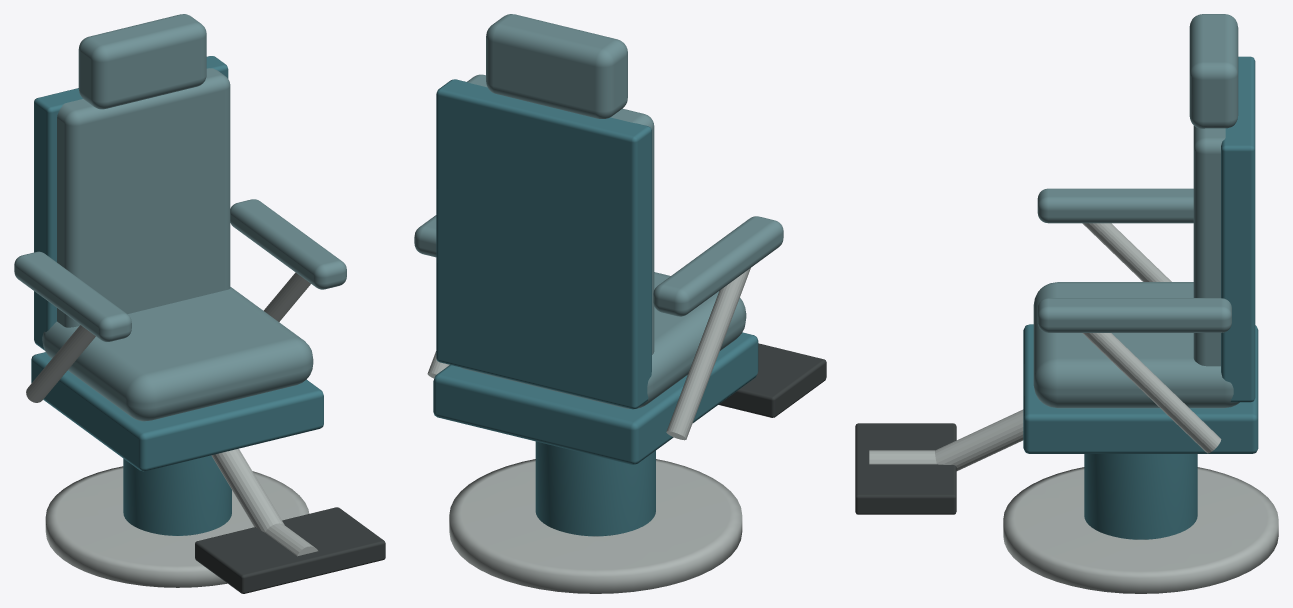
The model's file is optician-and-optical-lens-workshop-optician-and-optica-c19e6604__31668.glb.
The picture shows the model from 3 angles, left to right: view 1: azimuth 30°, elevation 25°; view 2: azimuth 150°, elevation 25°; view 3: azimuth 270°, elevation 25°; orthographic projection. The views are drawn at different scales.
Visible parts, largest first — view 1: optician-and-optical-lens-workshop-refraction-chair; view 2: optician-and-optical-lens-workshop-refraction-chair; view 3: optician-and-optical-lens-workshop-refraction-chair.
Part boxes in pixels (x1=…): optician-and-optical-lens-workshop-refraction-chair: x1=14, y1=14, x2=385, y2=593; optician-and-optical-lens-workshop-refraction-chair: x1=414, y1=14, x2=826, y2=593; optician-and-optical-lens-workshop-refraction-chair: x1=855, y1=14, x2=1278, y2=593.
Bounding box in the file's own units: 0.735 × 1.36 × 1.04.
